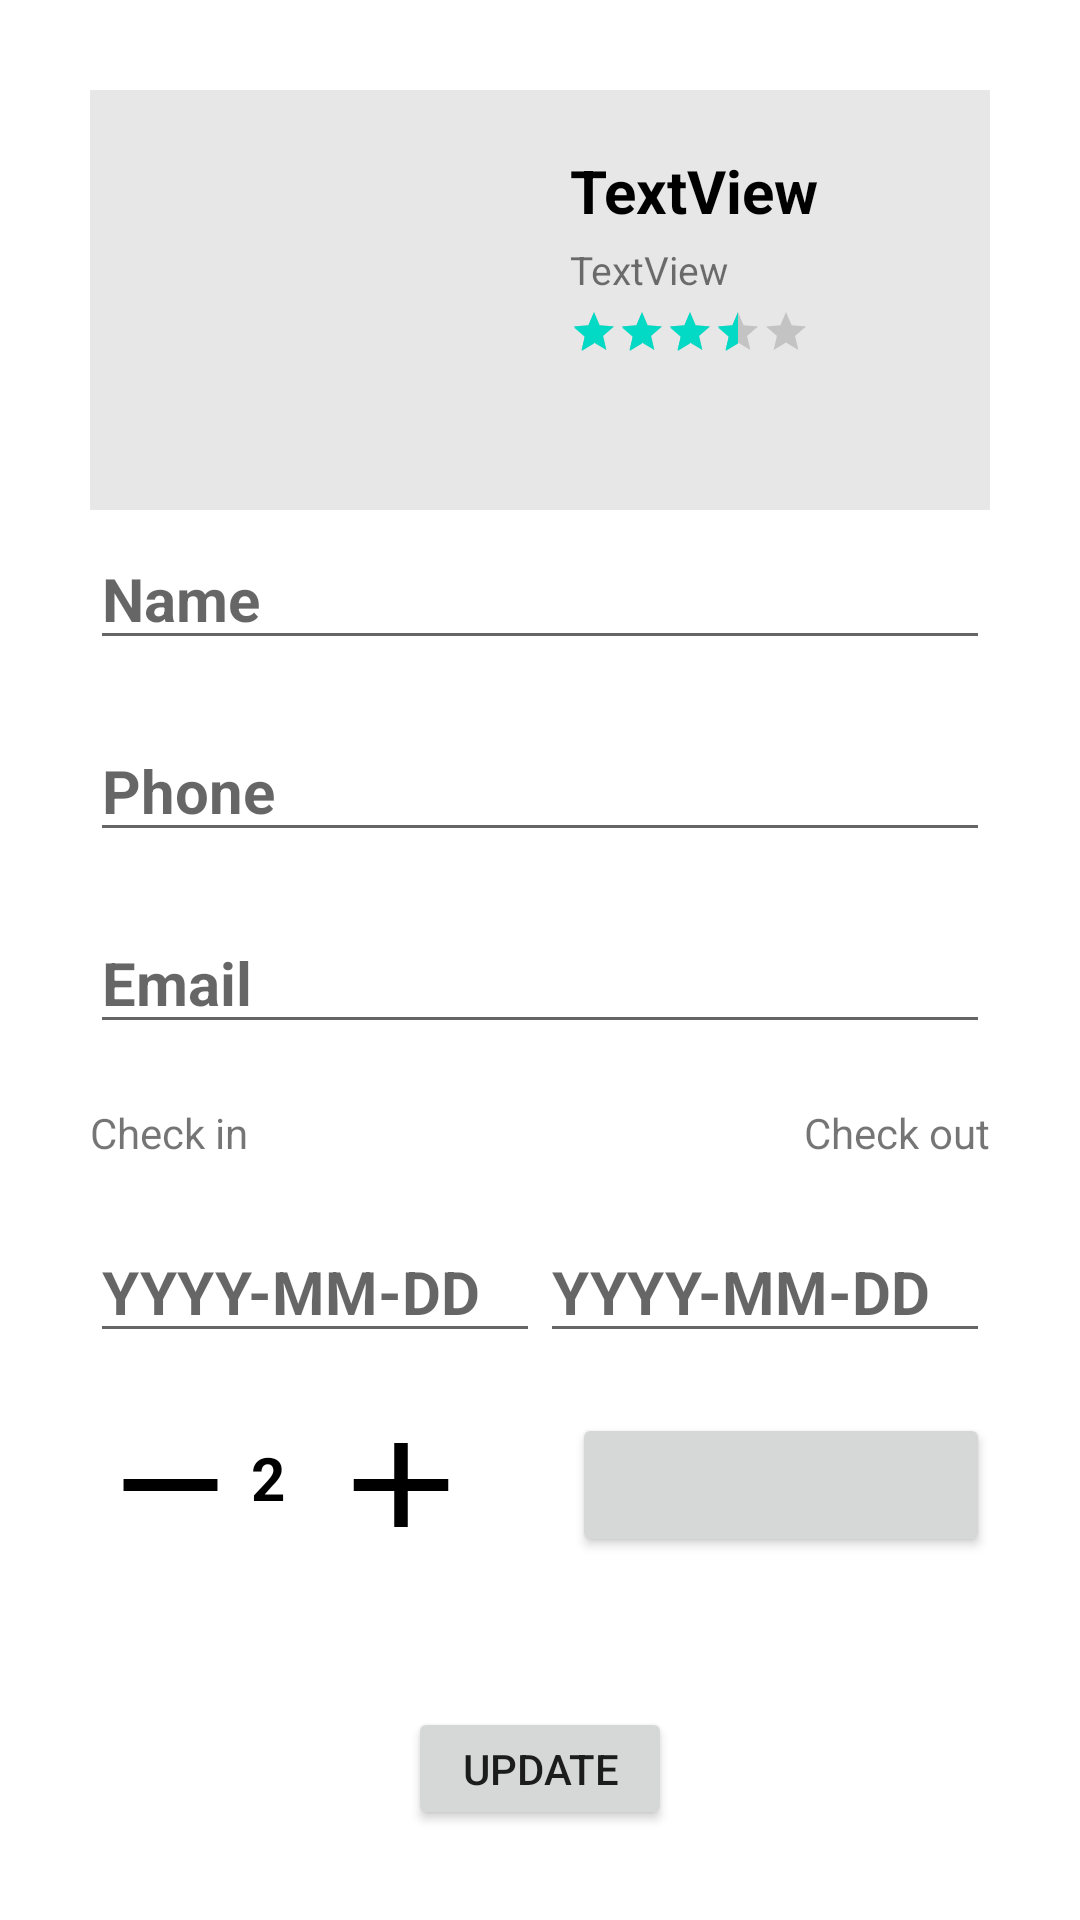

Named icons in this screenshot (1080w x 1920h) and their bounding boxes, (x1, y1, x2, y2):
add: (353, 1443, 449, 1527)
